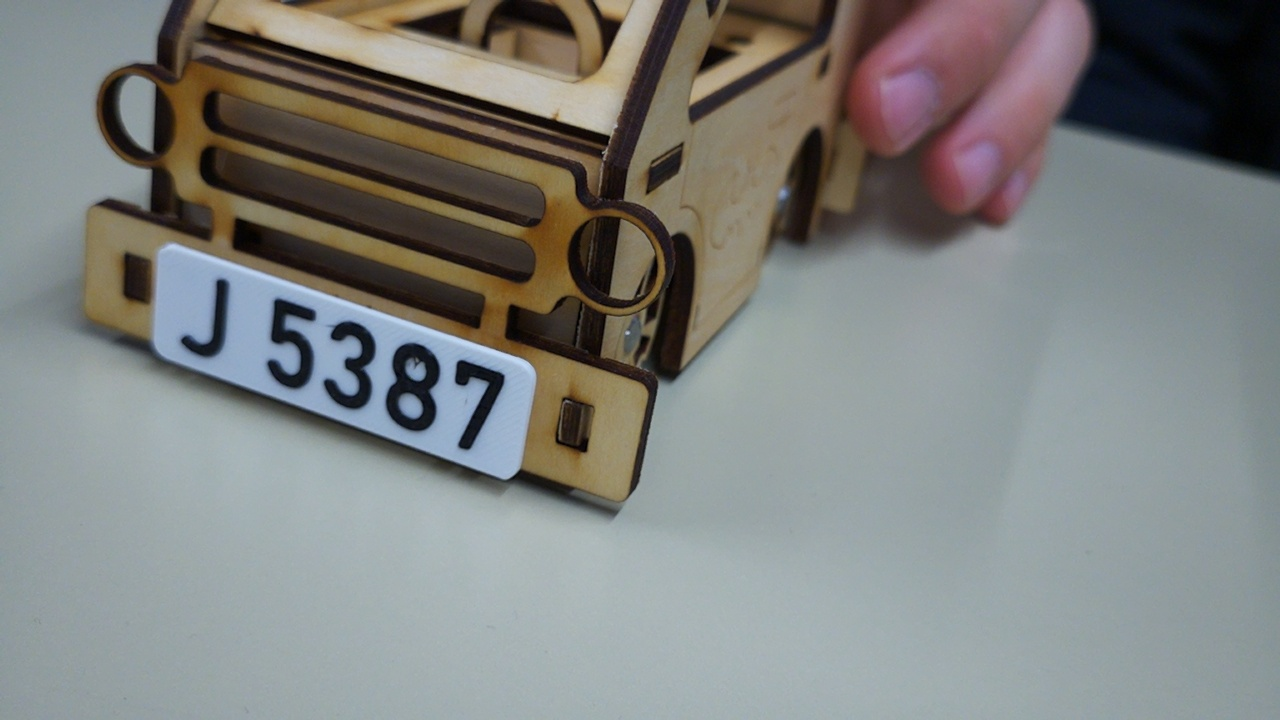license_plate: (150, 239, 539, 483)
